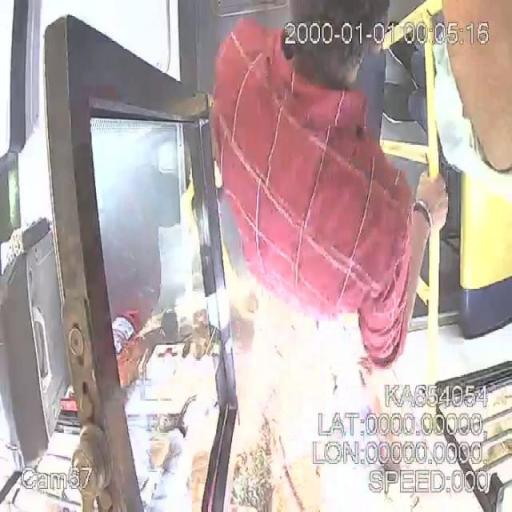persona: (206, 1, 450, 373)
